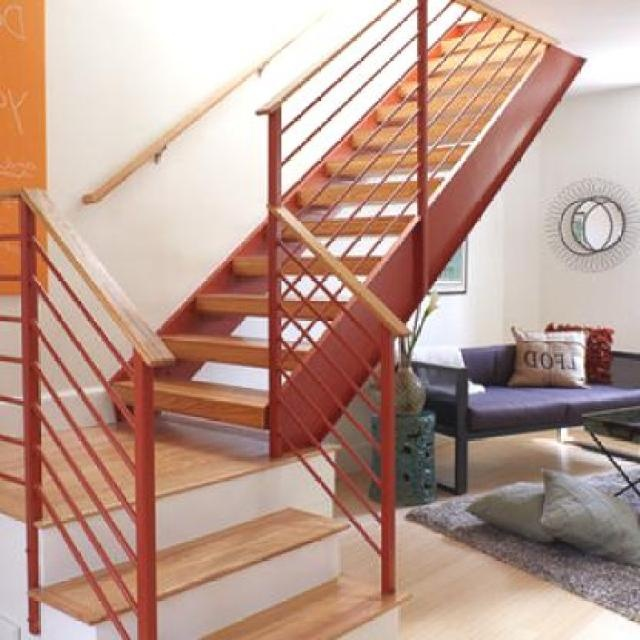stair: (1, 0, 618, 638)
